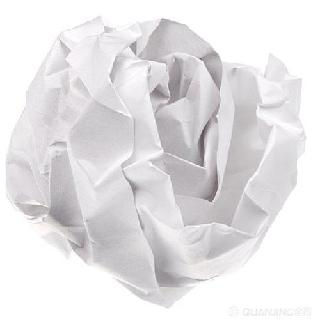8/可回收垃圾/纸: (6, 16, 308, 308)
